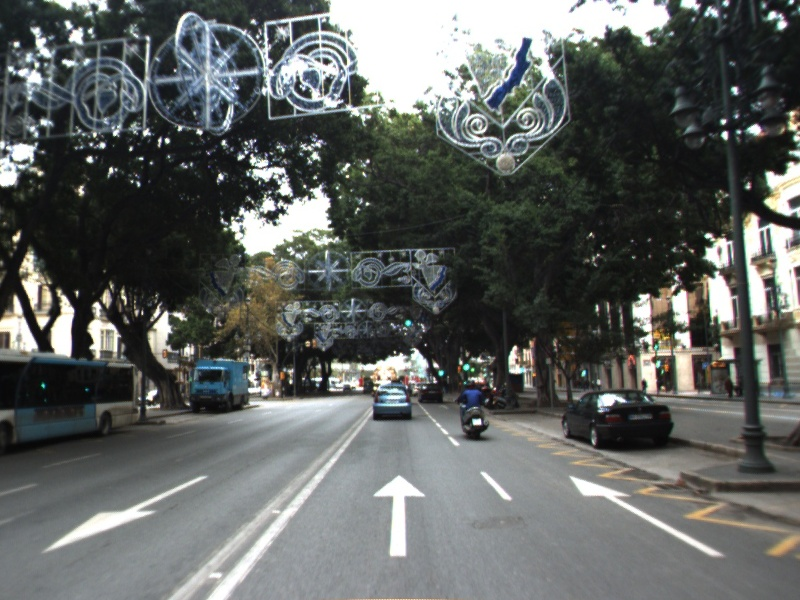STRAIGHT: (567, 473, 729, 560), (370, 472, 429, 559)
